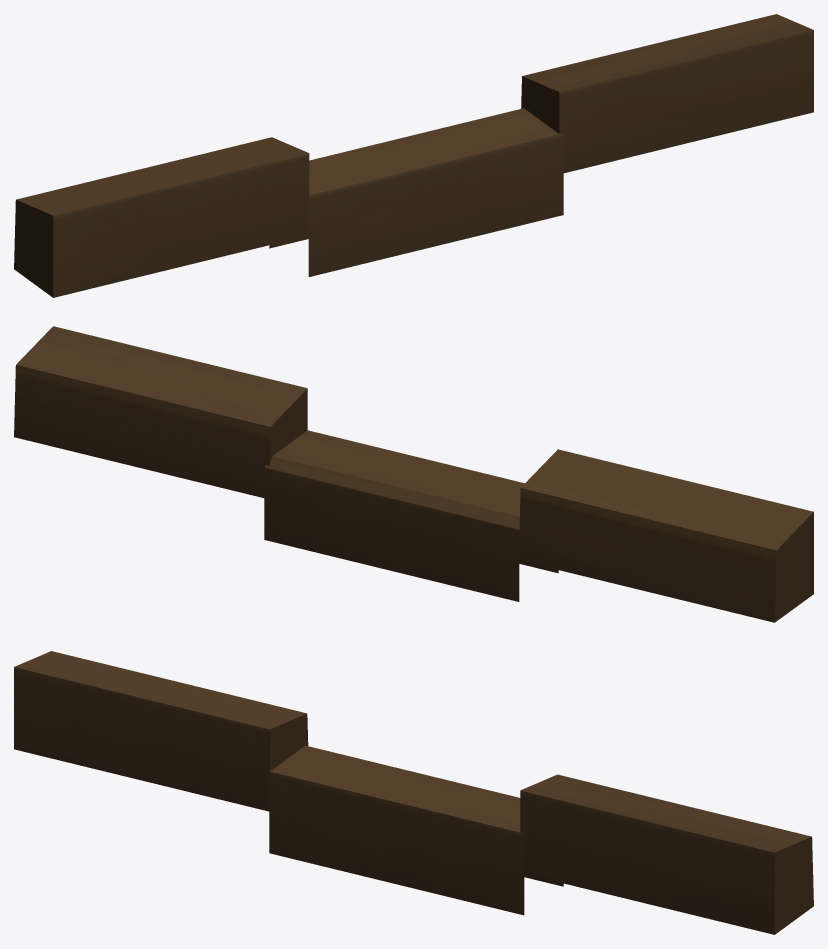
Rendered from floor02_wall2.FBX.
The picture shows the model from 3 angles, top to bottom: view 1: azimuth 30°, elevation 25°; view 2: azimuth 150°, elevation 25°; view 3: azimuth 330°, elevation 25°; orthographic projection.
Visible parts, largest first — view 1: Object1586; view 2: Object1586; view 3: Object1586.
Boxes of the visible parts, x1,y1,x2,y2 form: Object1586: [14, 14, 813, 297]; Object1586: [14, 326, 813, 622]; Object1586: [14, 651, 813, 934].
Bounding box in the file's own units: 2 × 0.312 × 0.179.
